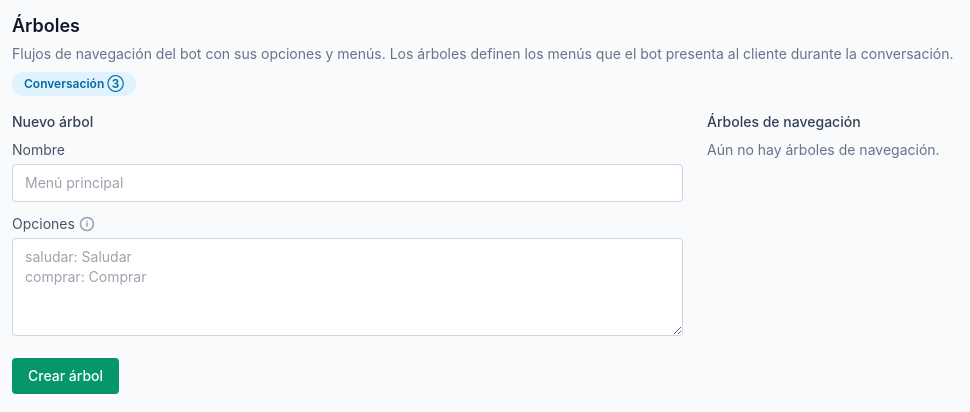
it: TreesSection › valida el nombre obligatorio antes de crear
The image size is (970, 412).
Expected: the text "Aún no hay árboles de navegación." is shown, [707,141,940,158]
Click the button "Crear árbol" at coordinates (66, 376), box [12,358,119,394]
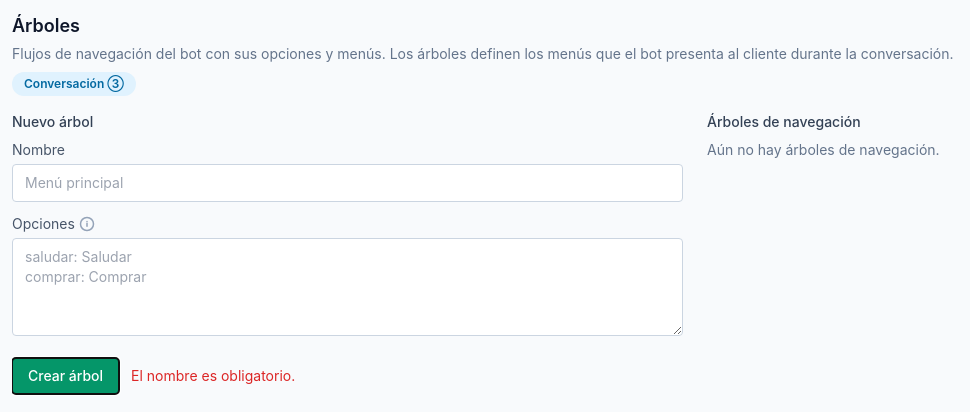
Expected: the text "El nombre es obligatorio." is shown, [131,367,295,384]
